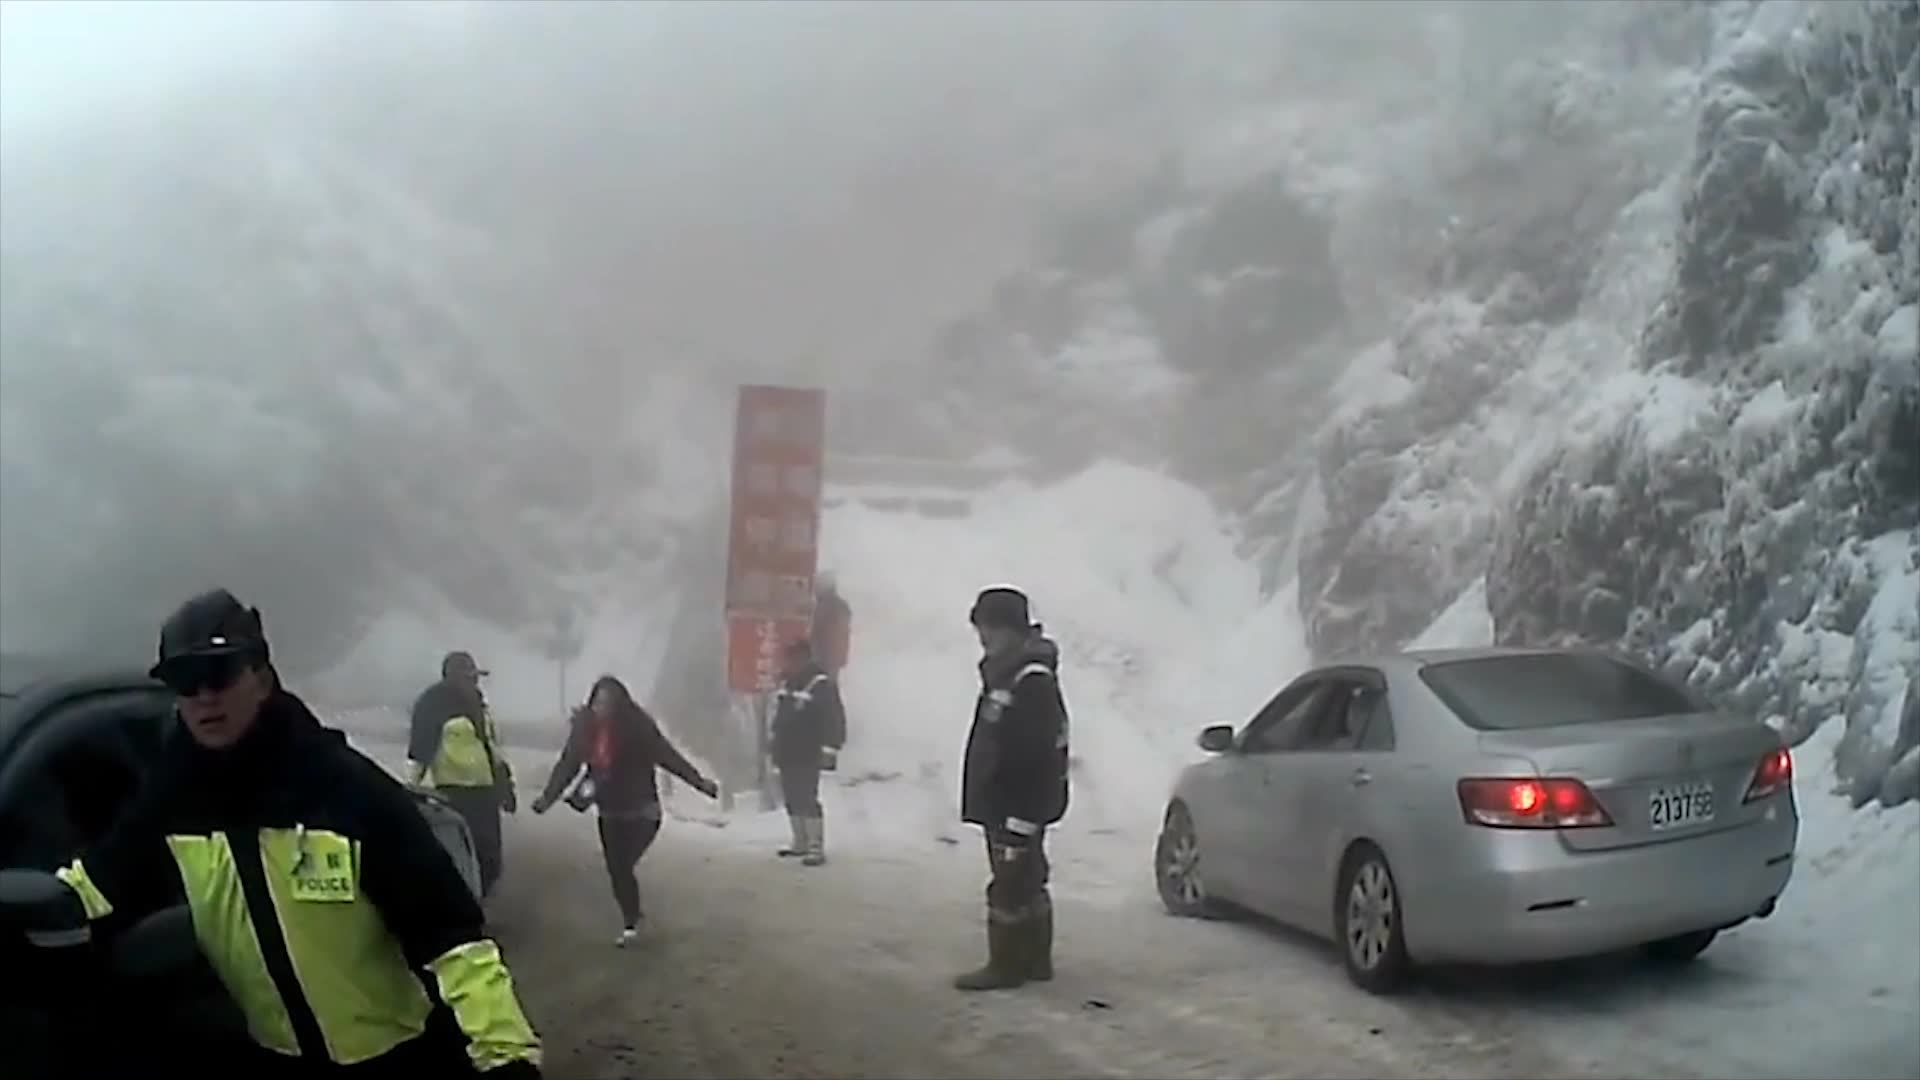pedestrian: (32, 583, 531, 1080), (940, 586, 1071, 990), (534, 677, 715, 949), (399, 646, 526, 931), (764, 639, 848, 865), (800, 564, 861, 754)
vehicle: (1152, 644, 1799, 992), (0, 654, 488, 1079)
